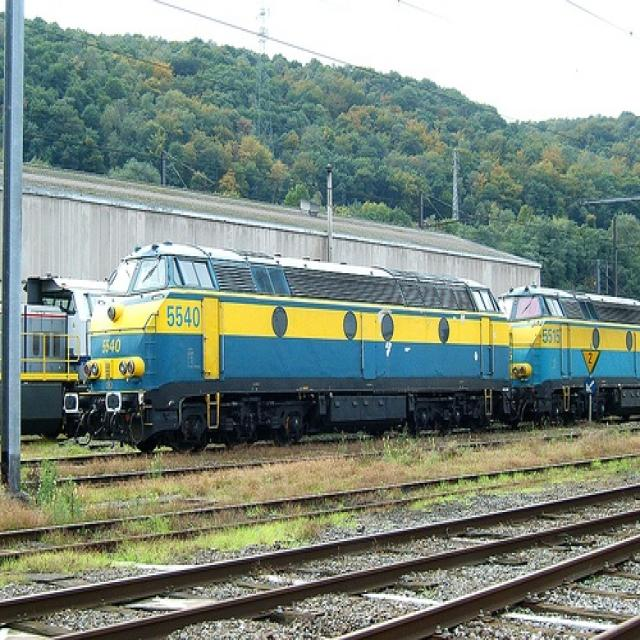train: (65, 242, 640, 447), (22, 276, 105, 431)
